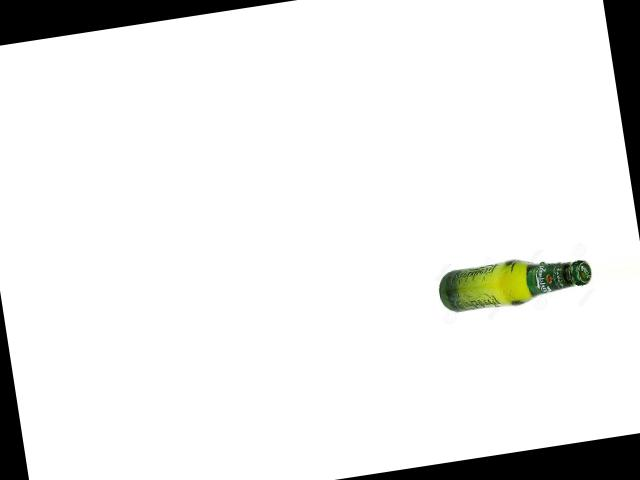beer: (435, 248, 595, 316)
